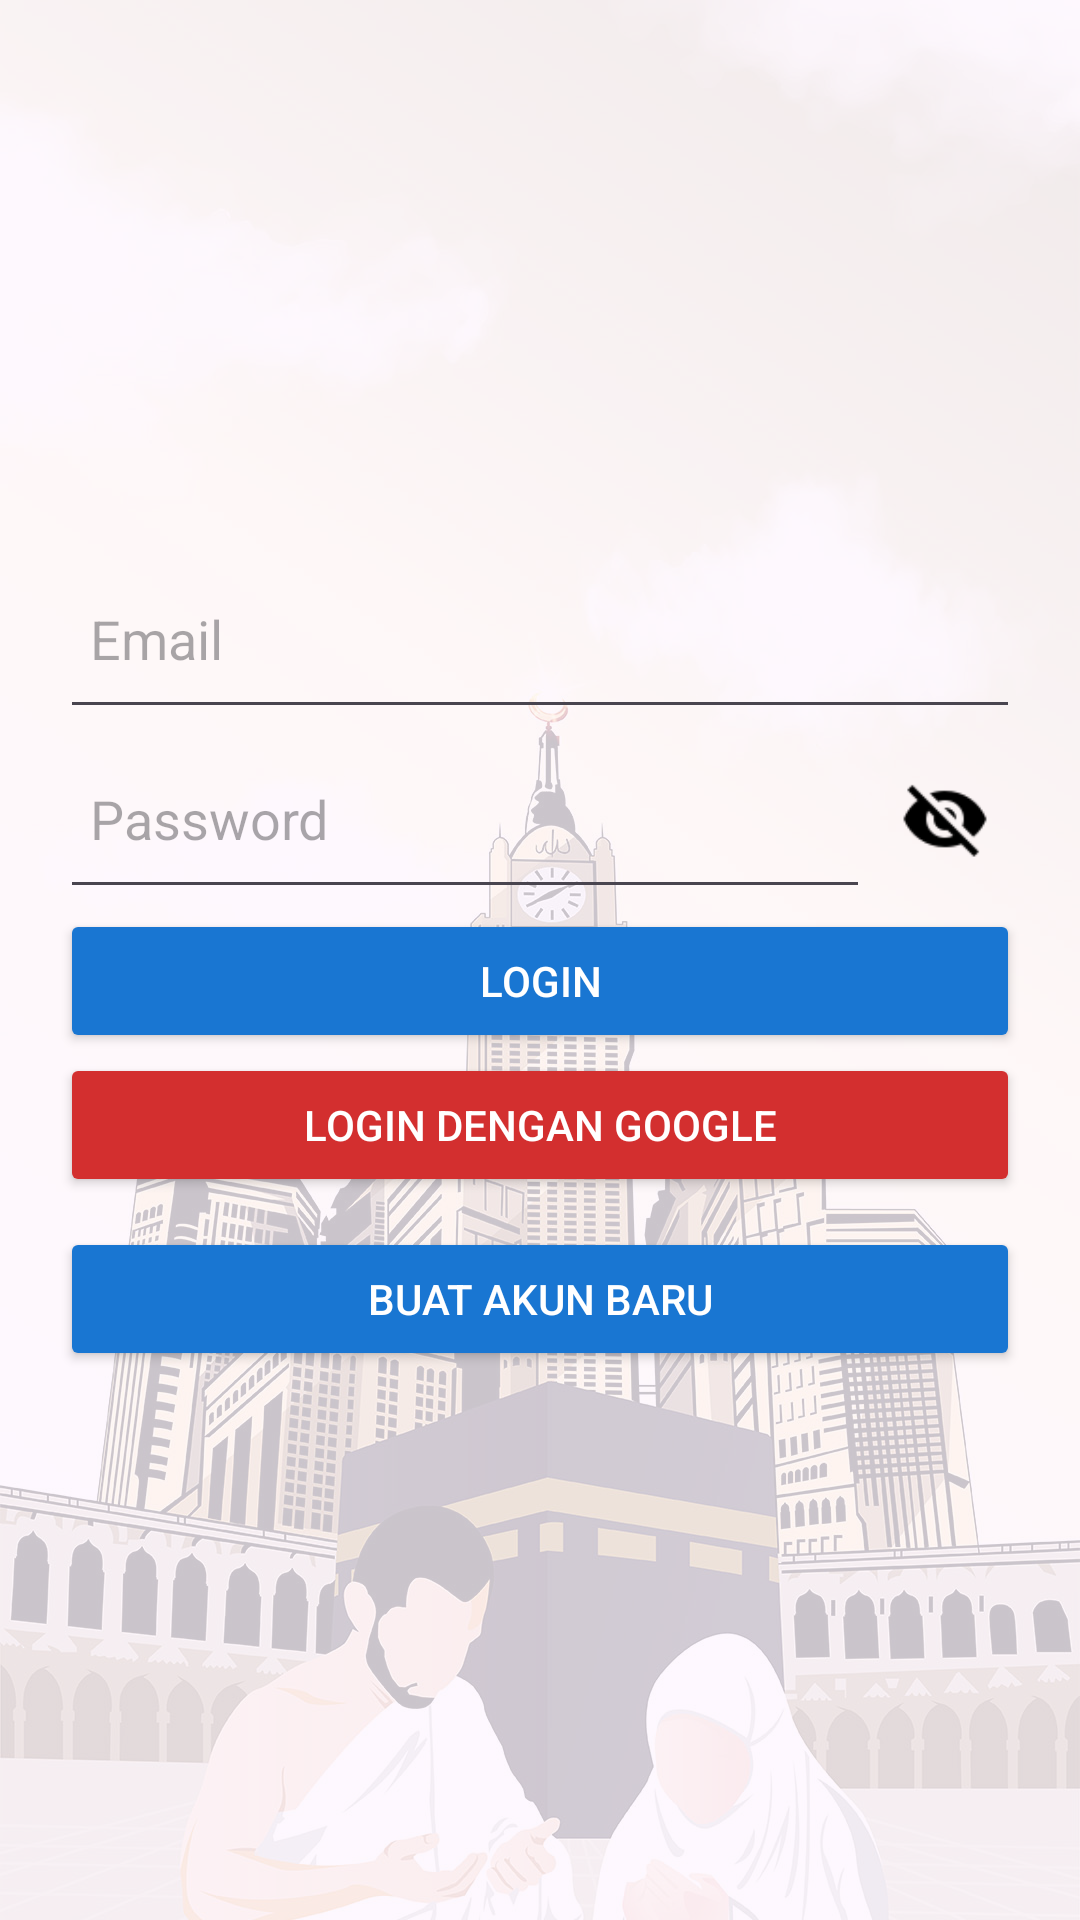

Point at icon controls on the screen. Image size 1080w x 1920h, points as point (x, y).
visibility off: point (945, 821)
